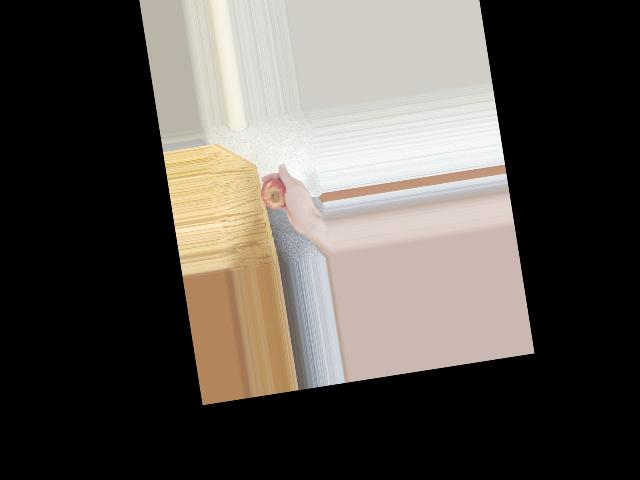apple: (257, 174, 293, 218)
